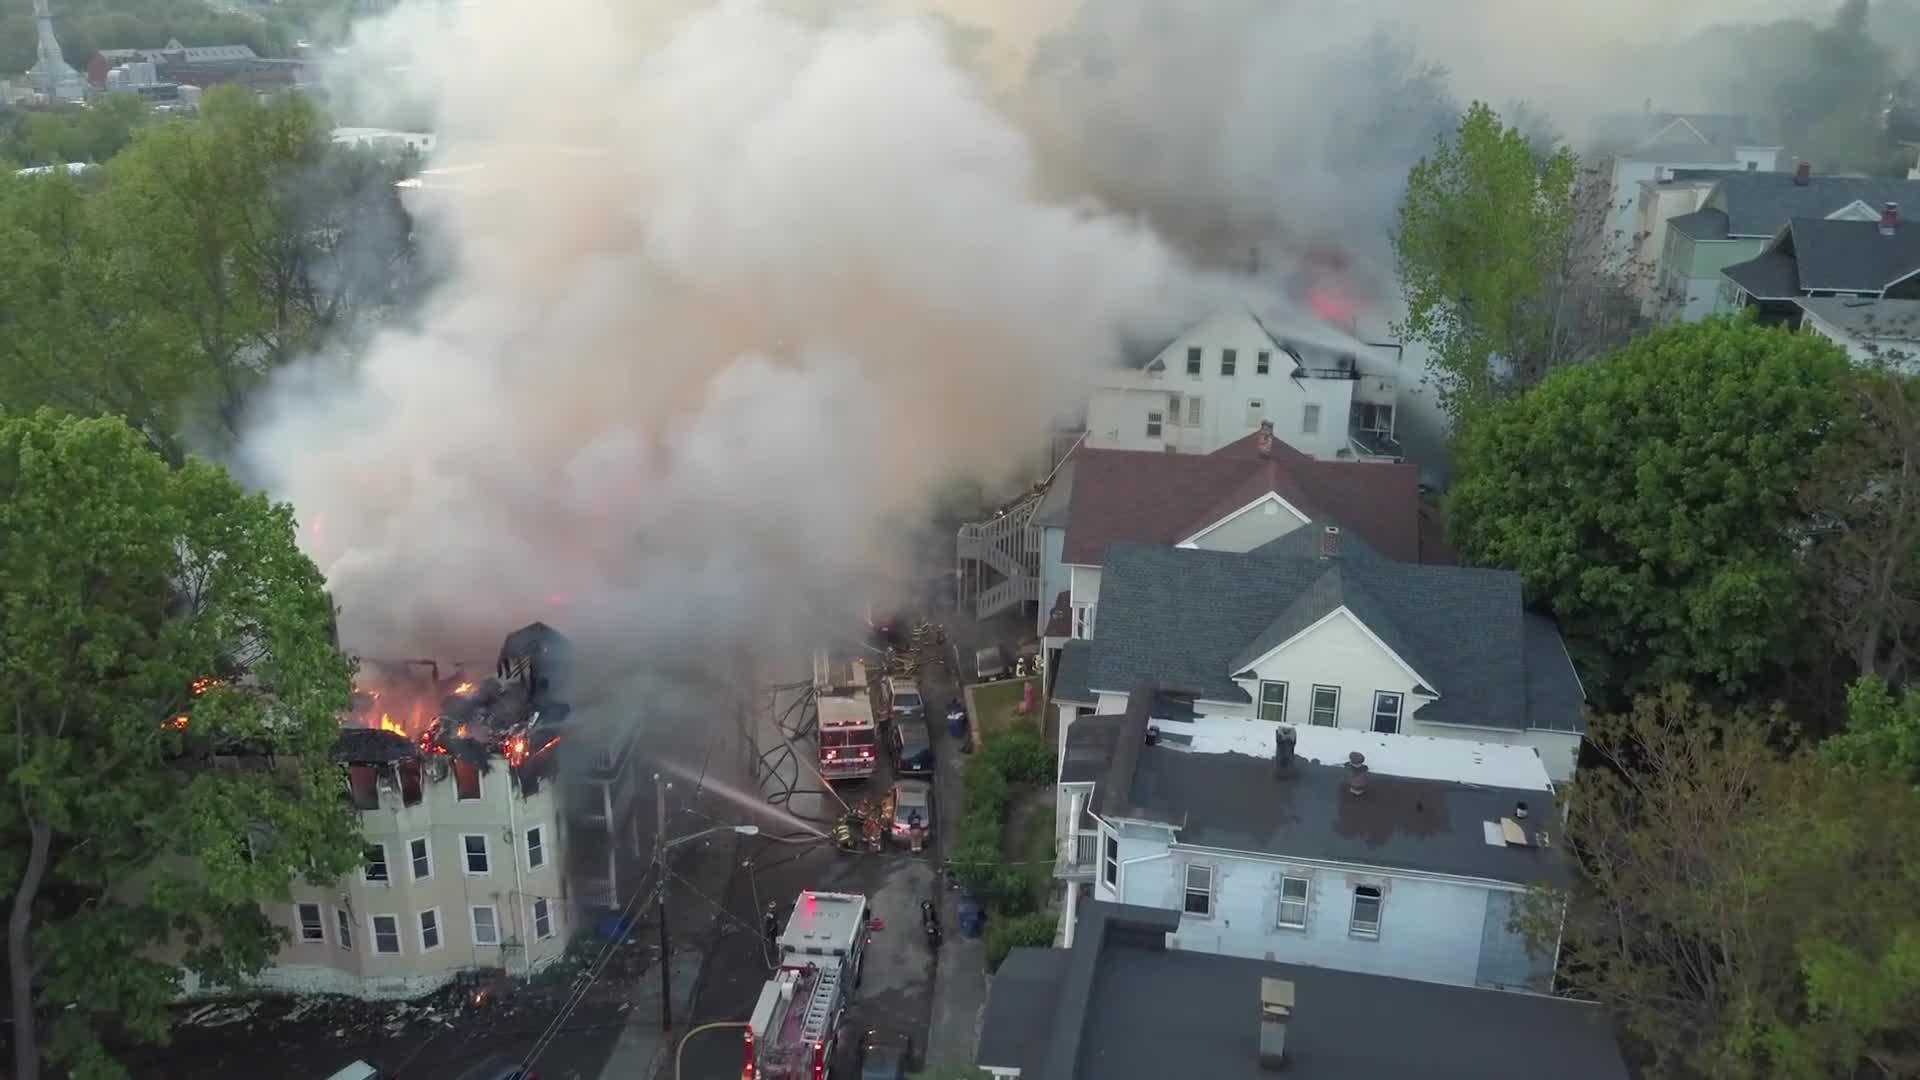smoke: (411, 44, 955, 537)
